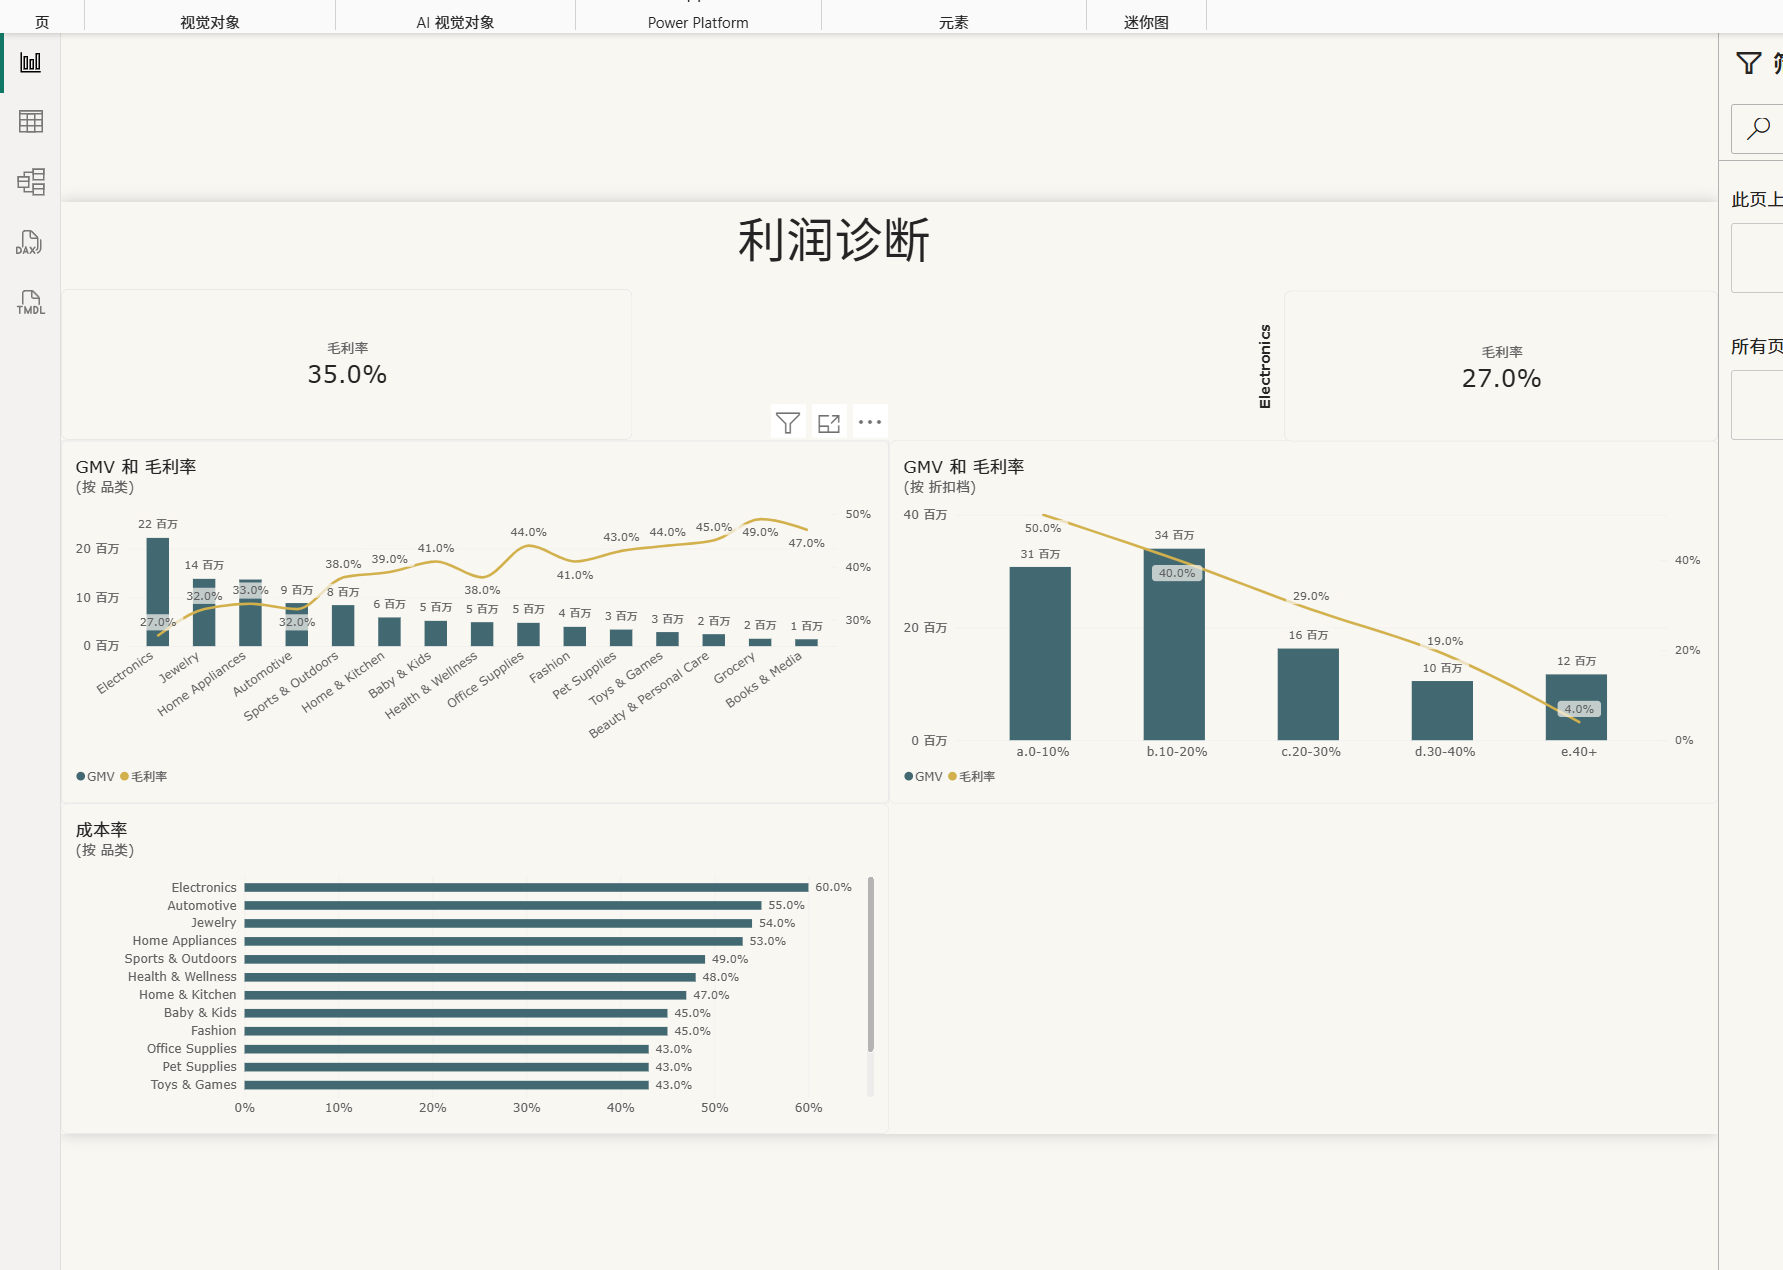

What the dashboard file says about the page in this screenshot:
{"tool":"powerbi","page":{"name":"利润诊断","canvas":[1920,1080],"ordinal":1},"visuals":[{"type":"lineClusteredColumnComboChart","fields":{"Category":["21.品类"],"Y":["Sum(21.GMV)"],"Y2":["Sum(21.毛利率)"]},"box":[0,276.4,959.4,420.6],"z":0},{"type":"lineClusteredColumnComboChart","fields":{"Category":["22.折扣档"],"Y":["Sum(22.GMV)"],"Y2":["Sum(22.毛利率)"]},"box":[959.4,276.4,961.2,420.6],"z":1000},{"type":"clusteredBarChart","fields":{"Category":["23.品类"],"Y":["Sum(23.成本率)"]},"box":[231.2,697,1270.5,382.4],"z":2000},{"type":"cardVisual","fields":{"Data":["Sum(11.毛利率)"]},"box":[0,100.8,662.2,175.5],"z":3000},{"type":"cardVisual","fields":{"Data":["Sum(21.毛利率)"],"Rows":["21.品类"]},"box":[1385.3,102.5,535.3,175.5],"z":4000},{"type":"textbox","box":[509.3,0,773.5,100.8],"z":5000},{"type":"textbox","box":[959.4,697,231.2,382.4],"z":6000}]}

Visuals, with their boxes on the page's 1920x1080 design canvas (x1, y1, x2, y2). These are canvas units, not pixel positions in the 1783x1270 screenshot, which may show the page scaled, cropped or inside an application window:
lineClusteredColumnComboChart - 21.品类 x Sum(21.GMV): 0:276:959:697
lineClusteredColumnComboChart - 22.折扣档 x Sum(22.GMV): 959:276:1921:697
clusteredBarChart - 23.品类 x Sum(23.成本率): 231:697:1502:1079
cardVisual - Sum(11.毛利率): 0:101:662:276
cardVisual - Sum(21.毛利率) x 21.品类: 1385:102:1921:278
textbox: 509:0:1283:101
textbox: 959:697:1191:1079
